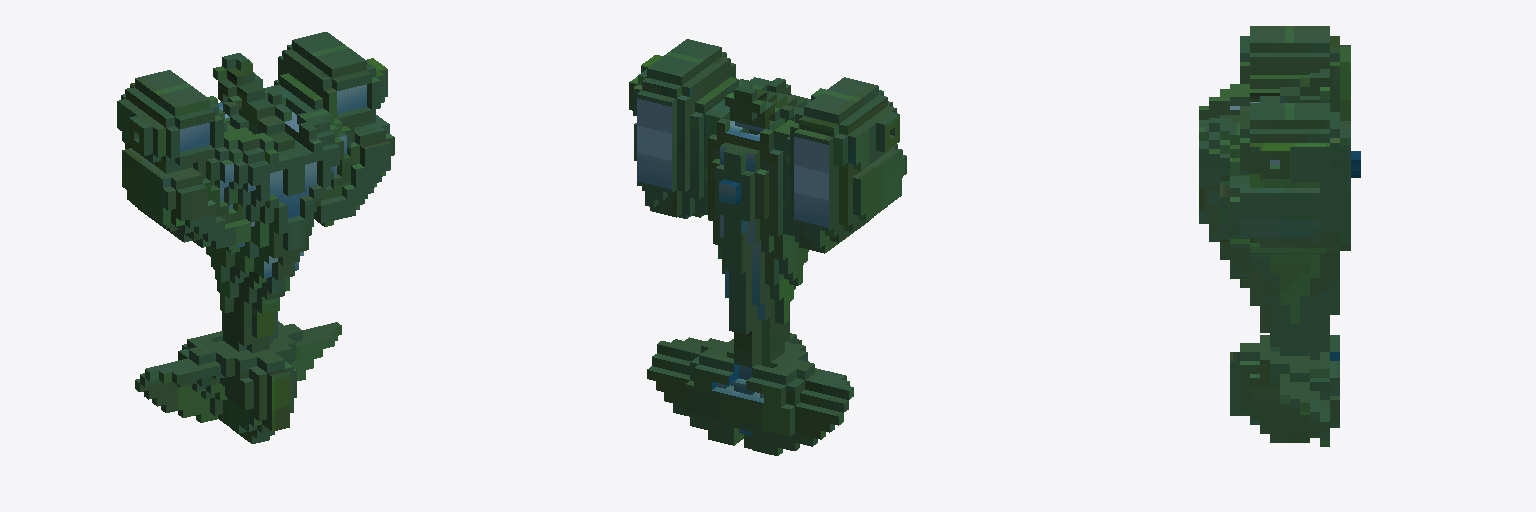
3 renders of one model, left to right at view 1: azimuth 30°, elevation 25°; view 2: azimuth 150°, elevation 25°; view 3: azimuth 270°, elevation 25°, orthographic.
Visible parts, largest first — view 1: MEch_-_Base36-5; view 2: MEch_-_Base36-5; view 3: MEch_-_Base36-5.
Boxes of the visible parts, x1=… form: MEch_-_Base36-5: x1=117, y1=32, x2=394, y2=443; MEch_-_Base36-5: x1=629, y1=39, x2=906, y2=455; MEch_-_Base36-5: x1=1199, y1=26, x2=1360, y2=446.
Size of the model in its own units: 2.8 by 4 by 1.6.
1 materials, 1 textured.